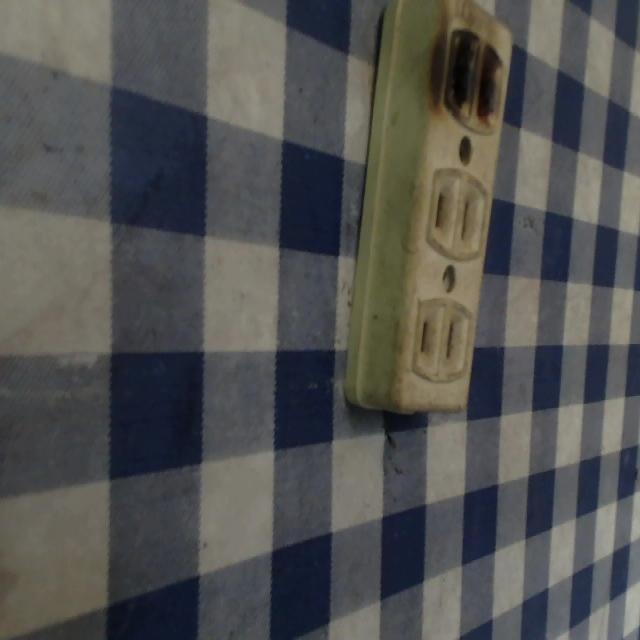-: (437, 12, 512, 135)
